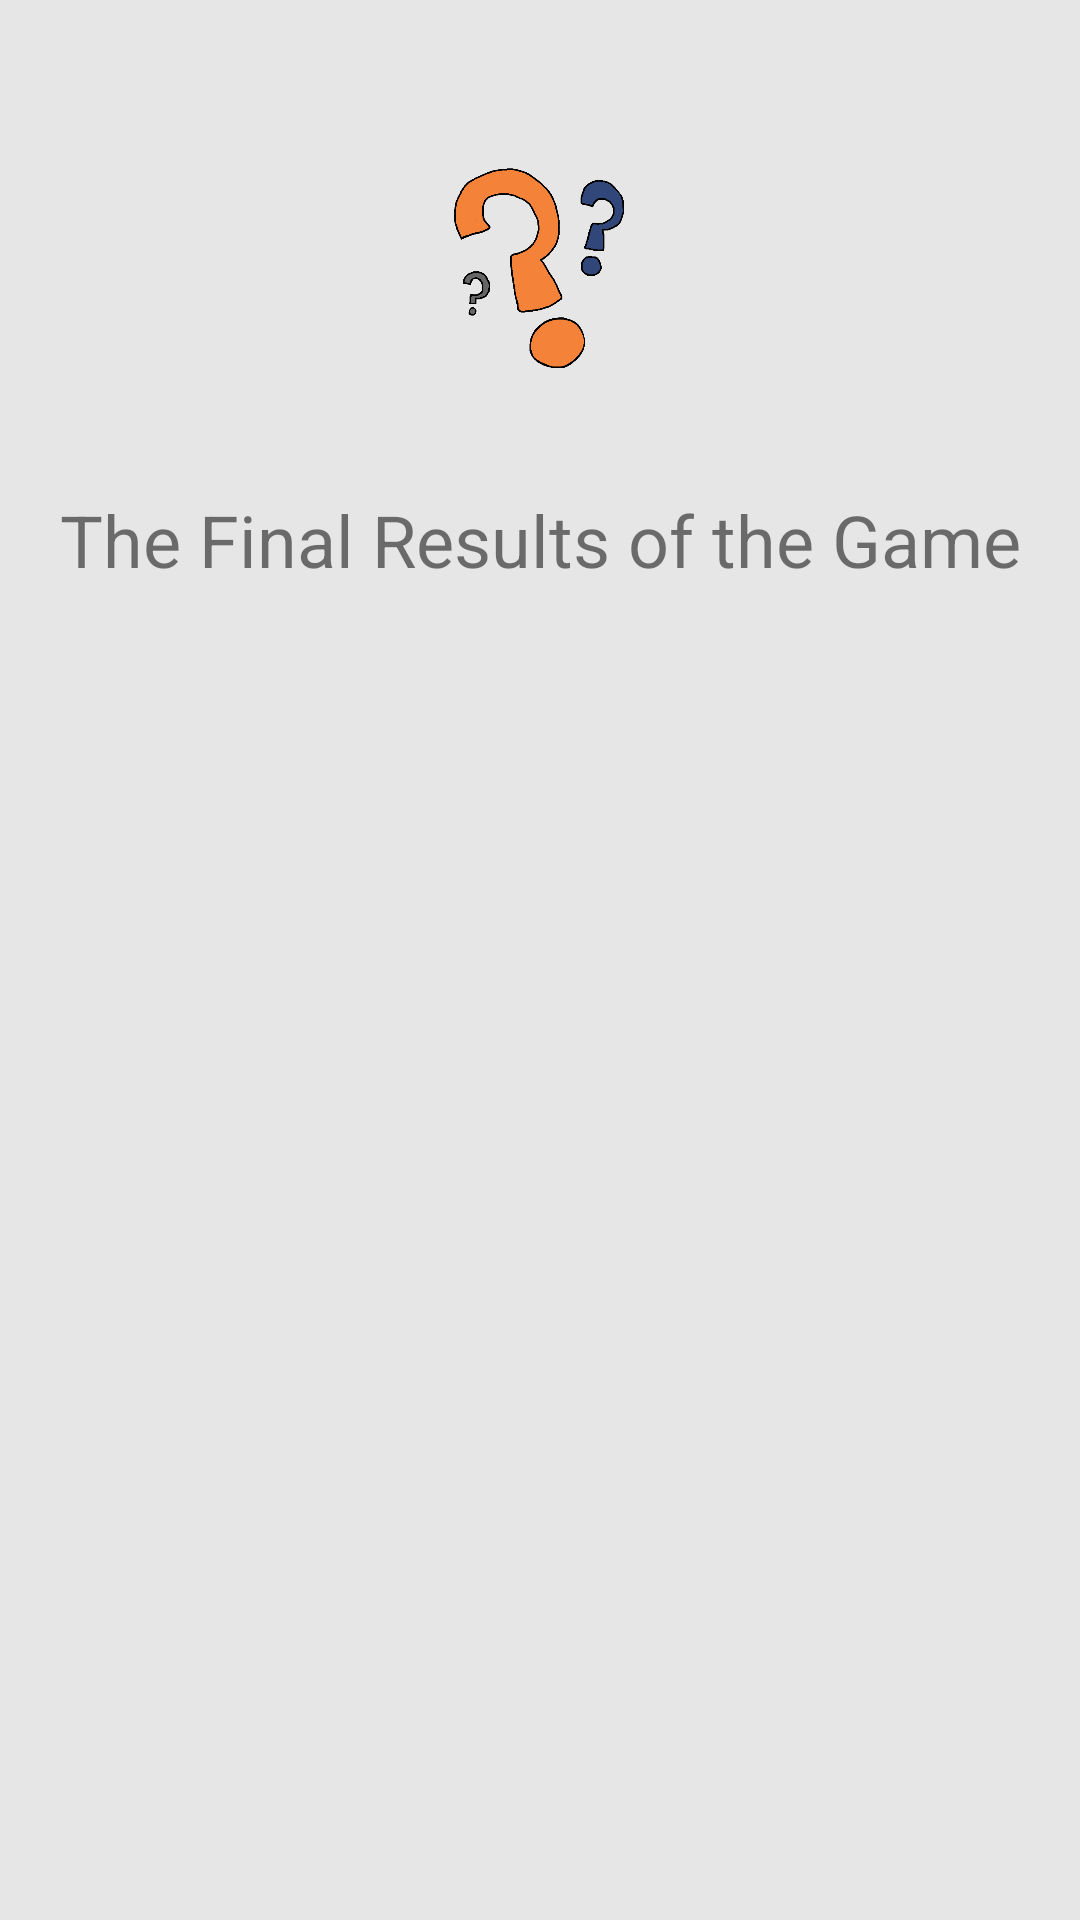

Locate icon controls on the screen. Image size 1080px×1920px, boxes as (x1, y1, x2, y2).
trivia: (454, 168, 624, 368)
